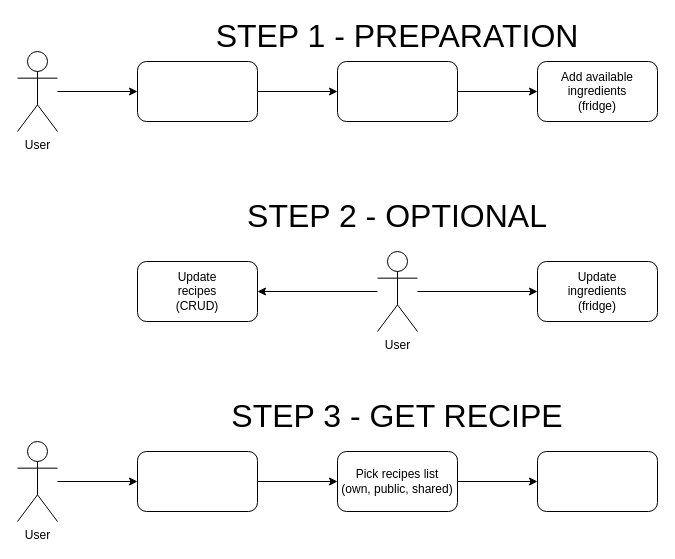
Image size: 675x559. Some labels were removed from this diagram. Here are the shapes that lost their labels. From the top down, the box of each, then its label:
(136, 60, 258, 122): Register
(336, 60, 458, 122): Add recipes
(136, 450, 258, 512): Login
(536, 450, 658, 512): Get recipe
